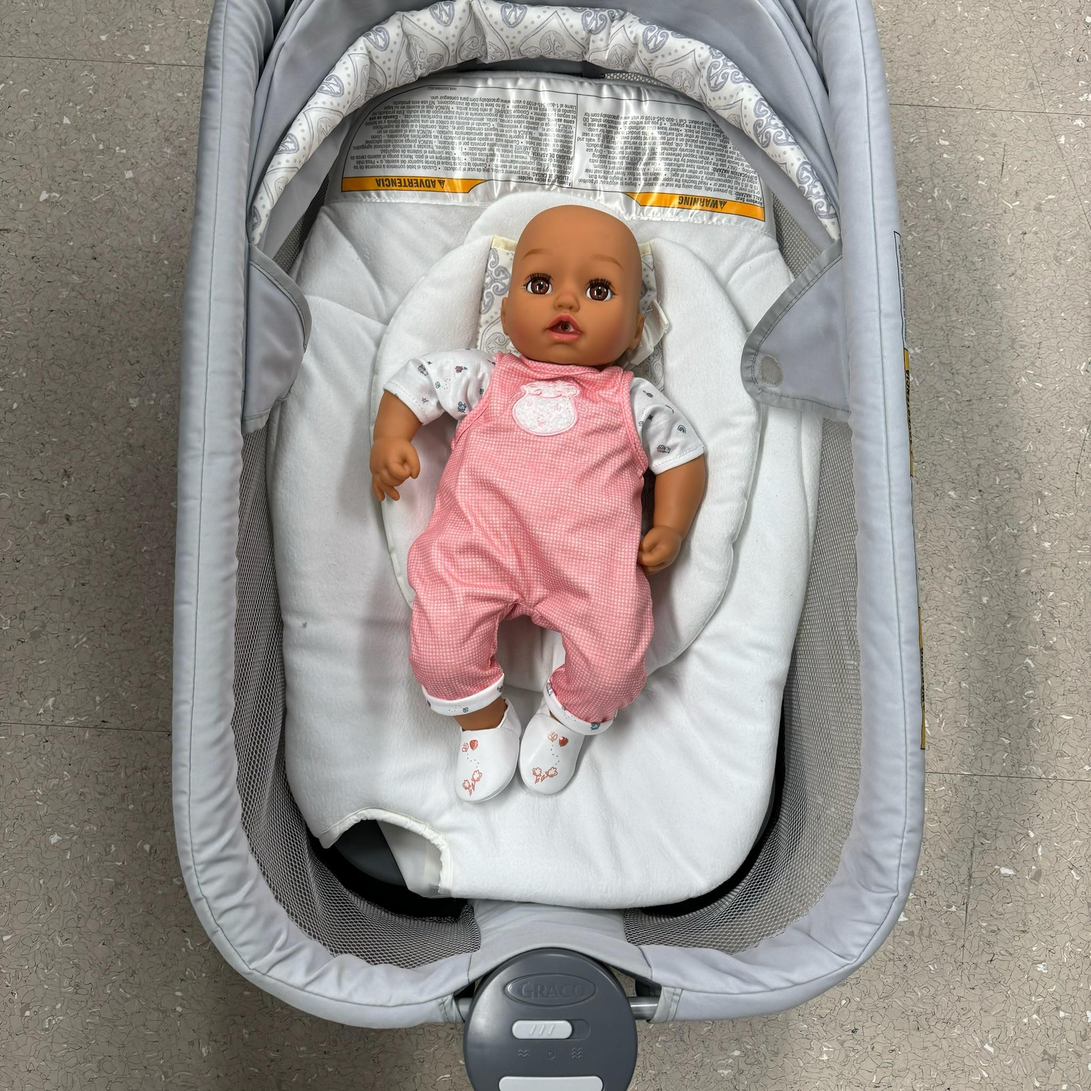baby: (334, 184, 724, 827)
